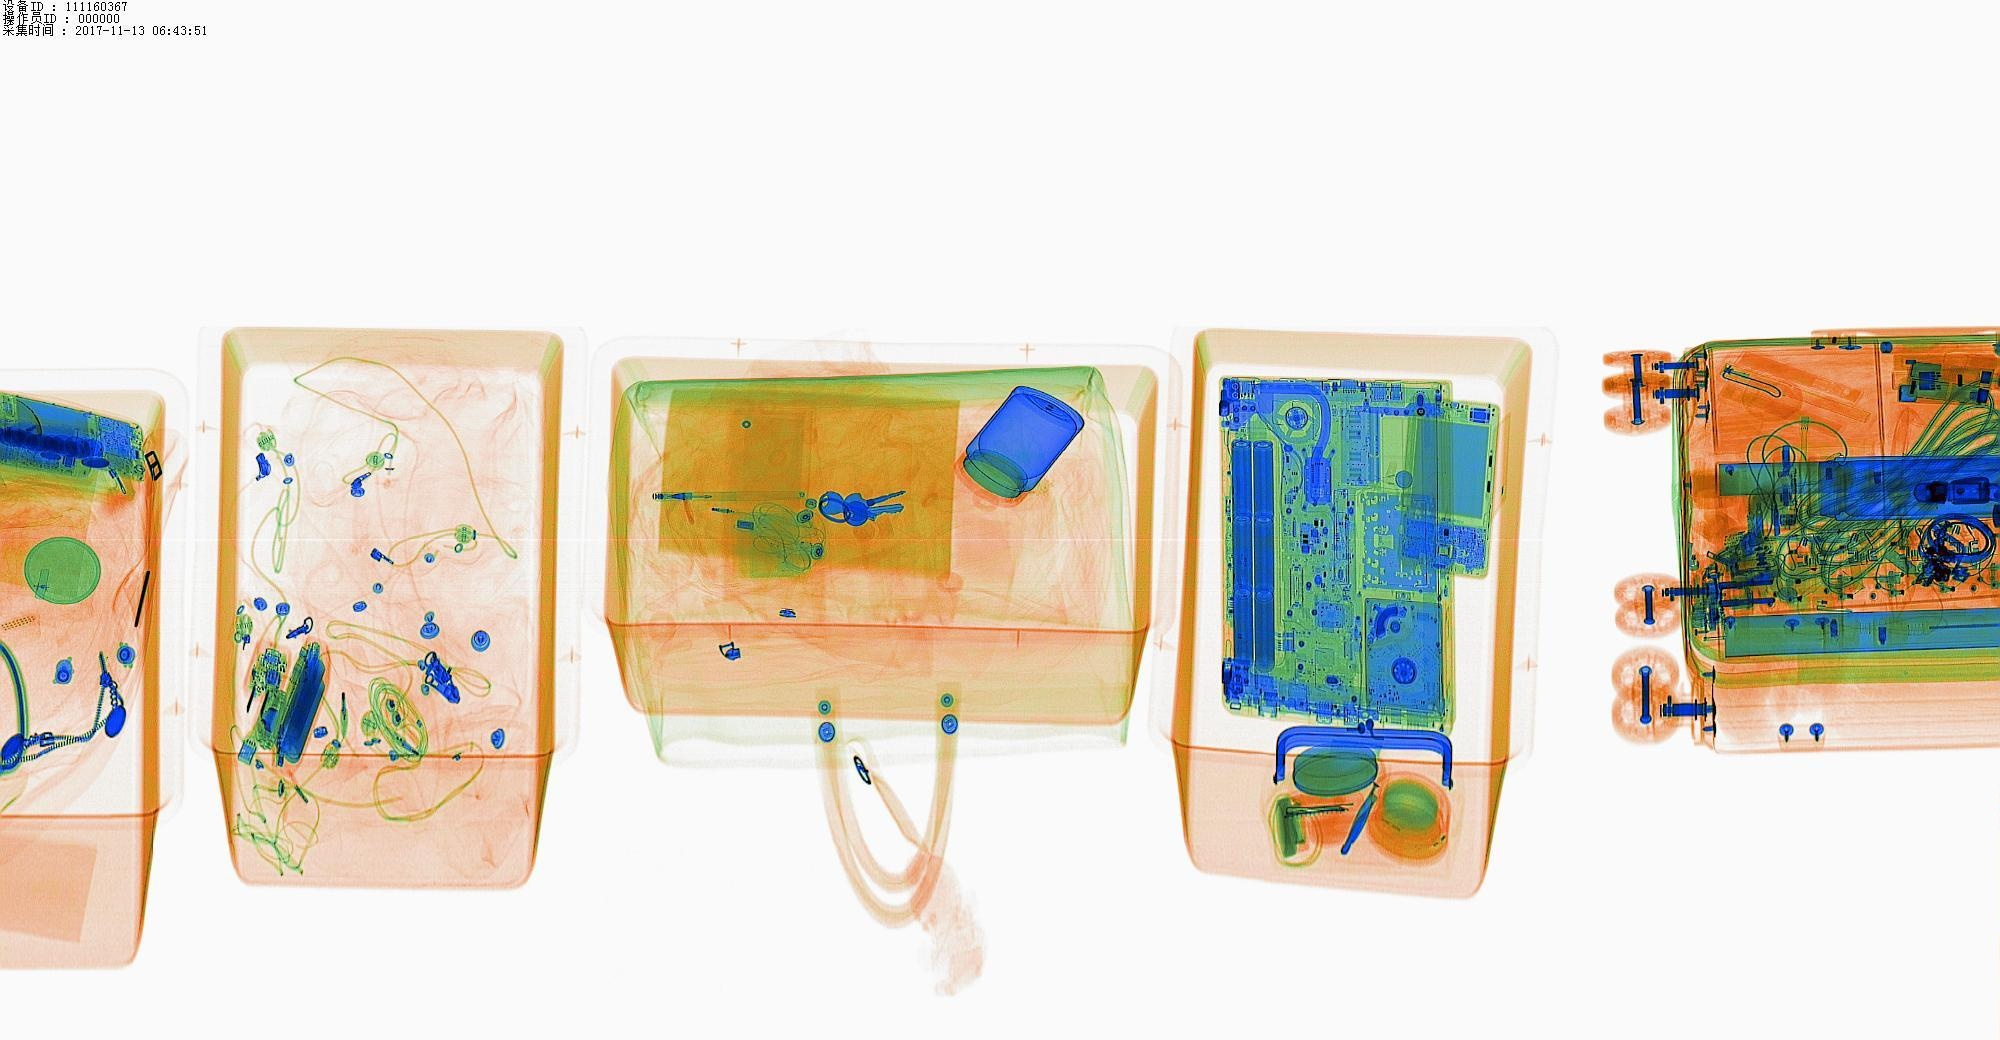core: (288, 640, 323, 767)
